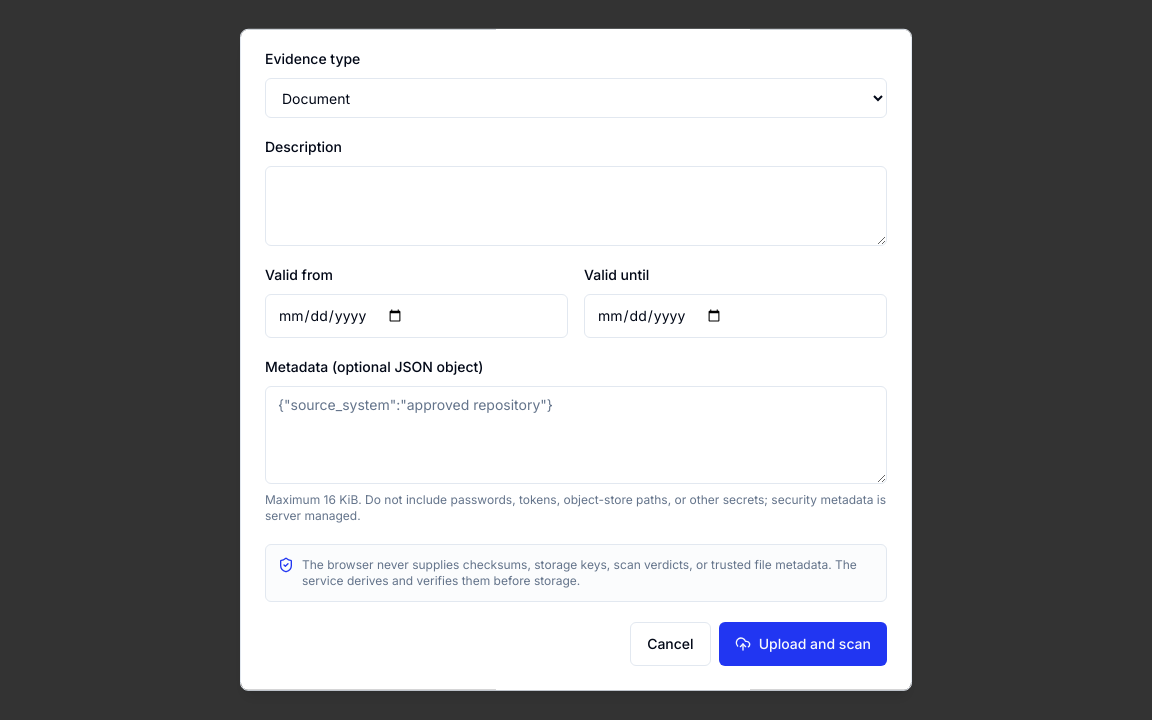
Scenario: evidence upload dialog › uses an accessible single-file input and focuses validation feedback
(page scrolled)
Click the button "Upload and scan".
click(803, 644)  # box [719,622,887,666]
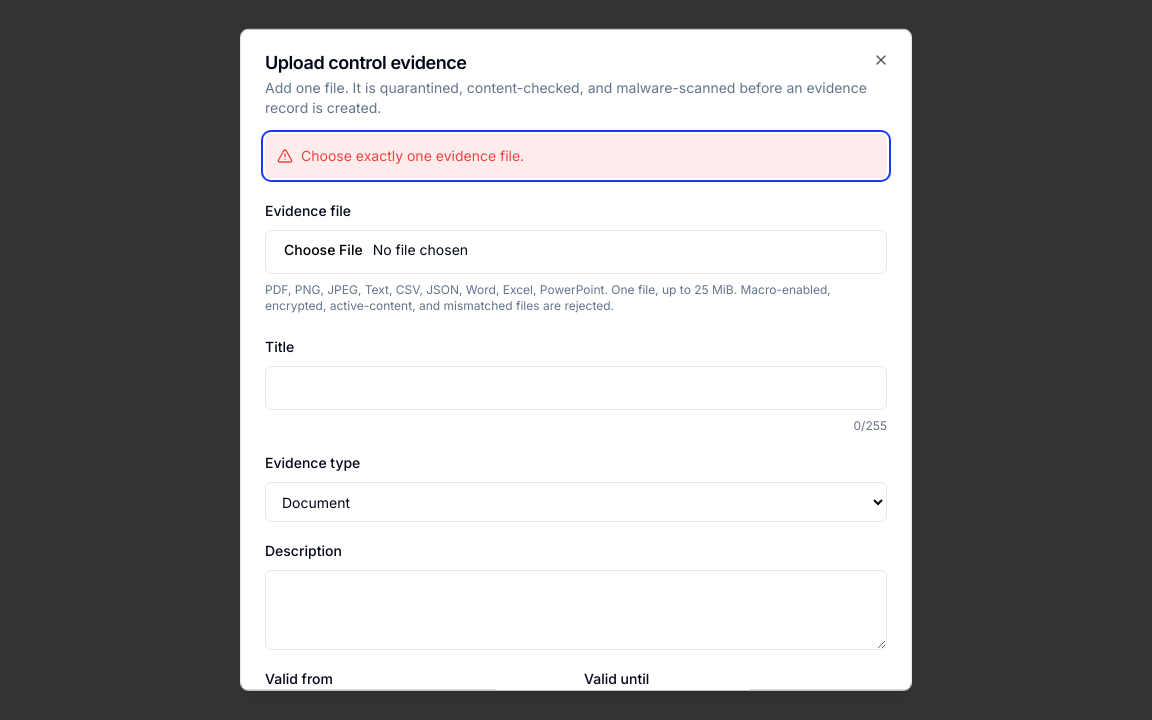
Expected: the message shows "Choose exactly one evidence file", [301,147,524,164]
